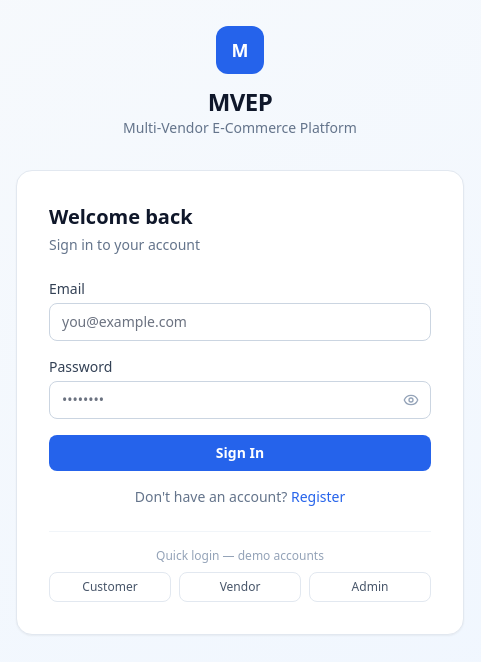
Test: LoginPage › shows validation error when email field is left empty
The width and height of the screenshot is (481, 662).
Submit without filling email — Zod rejects empty string as invalid email
Step 1. Type "password123" into the password field with placeholder "••••••••" → (240, 400), box [49,380,431,418]
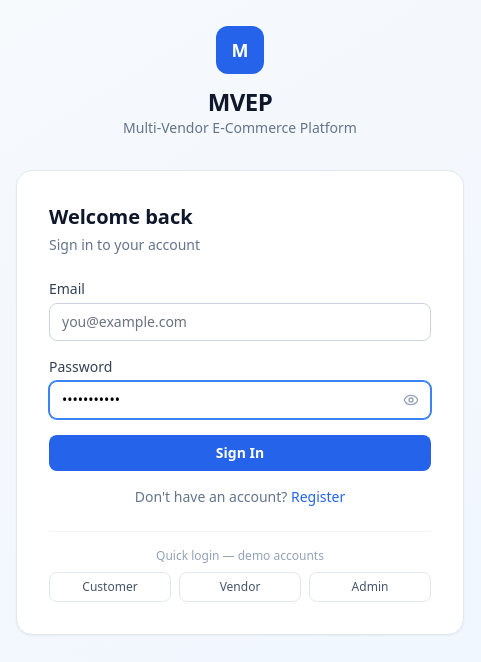
Step 2. Click the button "Sign In" → (240, 452), box [49,434,431,470]
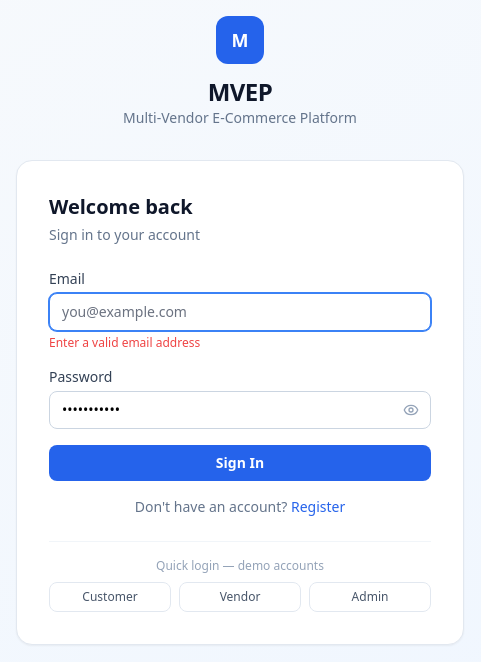
Result: the text "Enter a valid email address" is shown at [49,334,200,350]
